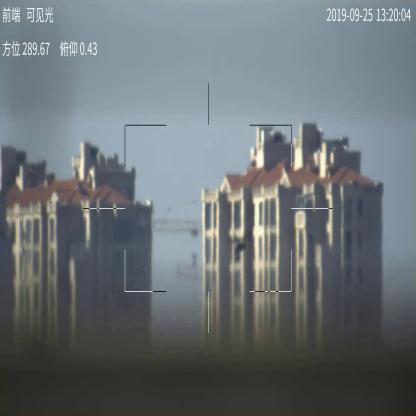uav: (230, 230, 256, 260)
